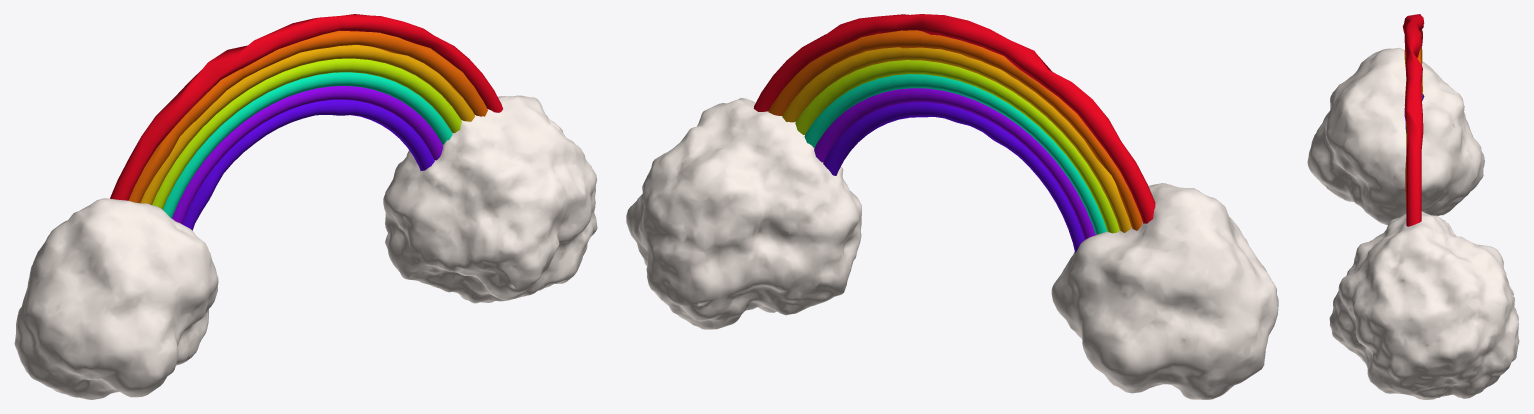
File: SIA_CloudRainbow2.fbx
The picture shows the model from 3 angles, left to right: view 1: azimuth 30°, elevation 25°; view 2: azimuth 150°, elevation 25°; view 3: azimuth 270°, elevation 25°; orthographic projection. The views are drawn at different scales.
Parts seen in each view (by area): view 1: Gee, Alpha, Alpha.0006, Alpha.0005, Alpha.0004, Alpha.0003, Alpha.0002, Alpha.0000, Alpha.0001; view 2: Gee, Alpha, Alpha.0006, Alpha.0005, Alpha.0004, Alpha.0003, Alpha.0002, Alpha.0001, Alpha.0000; view 3: Gee, Alpha, Alpha.0006, Alpha.0005.
Part boxes in pixels (box(x1,y1,x2,y2)): Gee: box(383, 95, 597, 303); Alpha: box(14, 198, 218, 399); Alpha.0006: box(110, 14, 502, 200); Alpha.0005: box(128, 30, 487, 202); Alpha.0004: box(140, 45, 474, 204); Alpha.0003: box(152, 58, 461, 209); Alpha.0002: box(163, 72, 452, 218); Alpha.0000: box(182, 99, 434, 230); Alpha.0001: box(172, 86, 443, 223); Gee: box(626, 98, 861, 329); Alpha: box(1051, 183, 1278, 399); Alpha.0006: box(753, 14, 1155, 223); Alpha.0005: box(768, 30, 1142, 230); Alpha.0004: box(782, 47, 1130, 232); Alpha.0003: box(795, 60, 1119, 233); Alpha.0002: box(804, 74, 1107, 234); Alpha.0001: box(814, 88, 1095, 239); Alpha.0000: box(823, 102, 1084, 252); Gee: box(1329, 211, 1519, 399); Alpha: box(1307, 47, 1484, 225); Alpha.0006: box(1402, 14, 1424, 226); Alpha.0005: box(1404, 31, 1422, 205).
Bounding box in the file's own units: 431 × 230 × 161.
